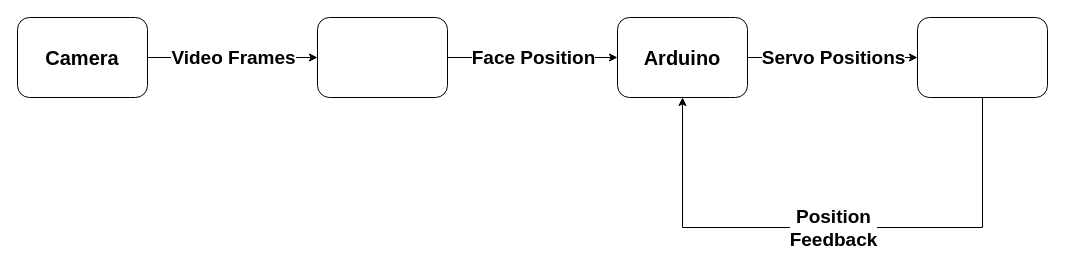
The diagram is 1065 pixels wide and 268 high, and some of its shapes have lost their labels. Each missing label, with the centre of its shape:
"PC" goes at pixel 382 57.
"Servo Motors" goes at pixel 982 57.
